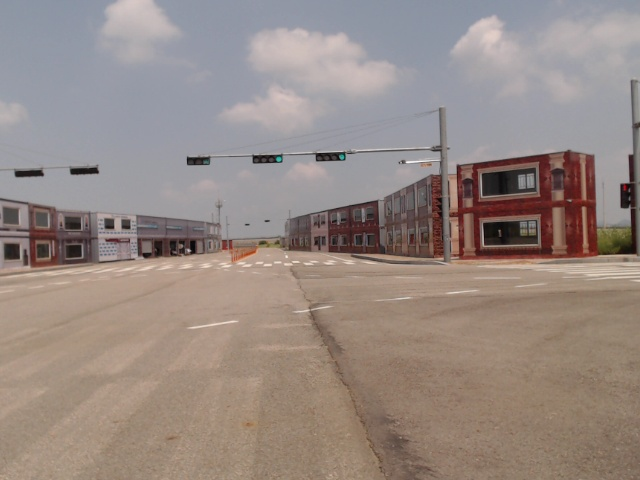straight_green_4: (315, 152, 346, 162), (253, 155, 284, 163)
